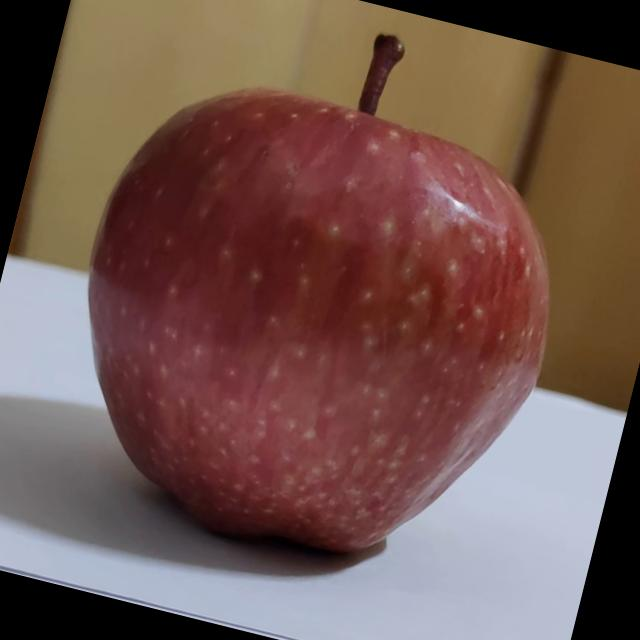apple: (31, 0, 618, 599)
